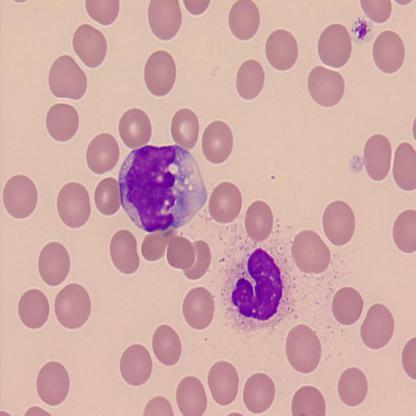Monocyte: (116, 142, 210, 234)
